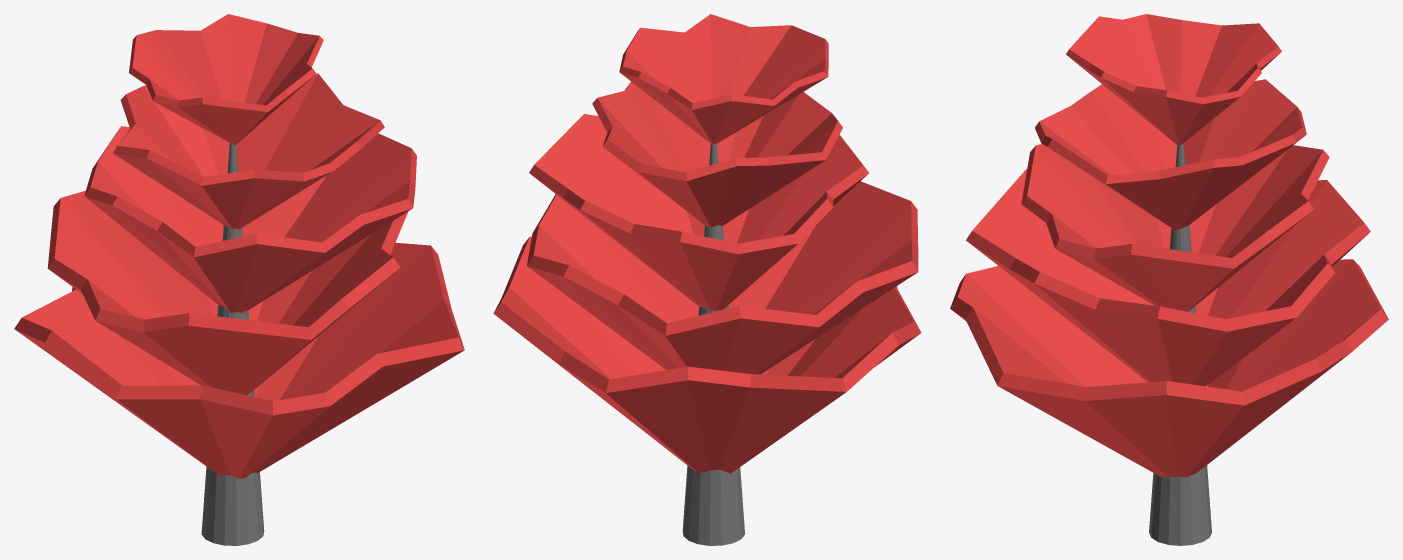
Rendered from Flower 1.fbx.
The picture shows the model from 3 angles, left to right: view 1: azimuth 30°, elevation 25°; view 2: azimuth 150°, elevation 25°; view 3: azimuth 270°, elevation 25°; orthographic projection.
Visible parts, largest first — view 1: red02; view 2: red02; view 3: red02.
Part boxes in pixels (<box>): red02: <box>14,14,464,545</box>; red02: <box>493,14,921,545</box>; red02: <box>950,14,1388,545</box>.
Size of the model in its own units: 1.84 by 2.2 by 1.82.
